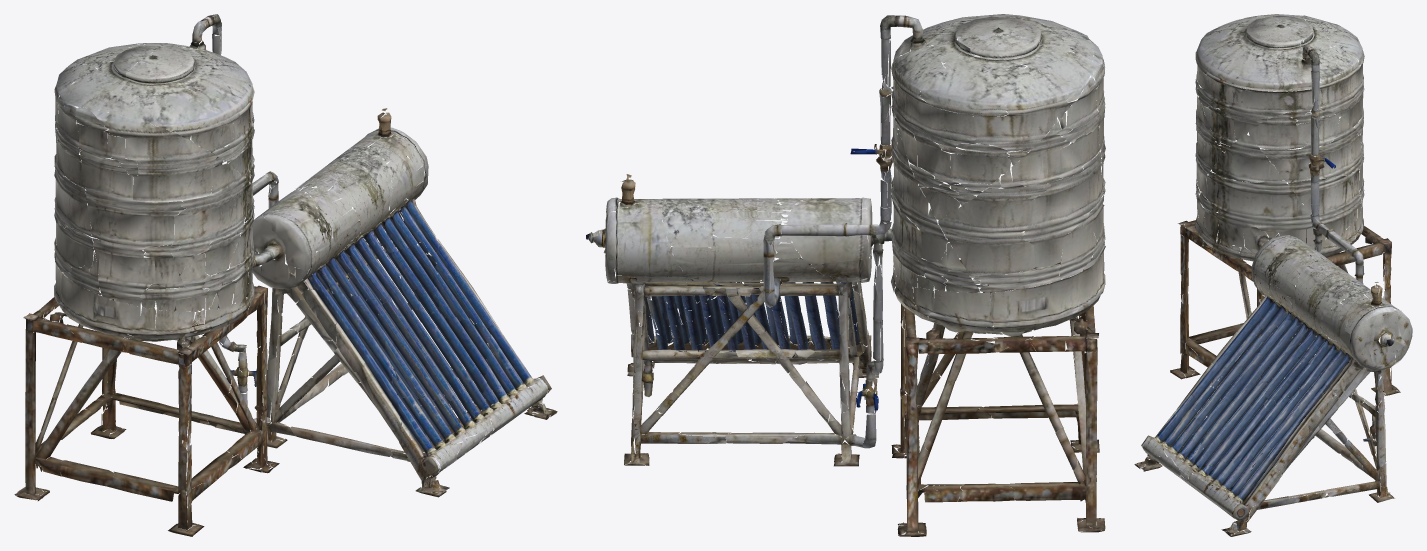
The model's file is m_watertank.glb.
3 renders of one model, left to right at view 1: azimuth 30°, elevation 25°; view 2: azimuth 150°, elevation 25°; view 3: azimuth 270°, elevation 25°, orthographic. The views are drawn at different scales.
Parts seen in each view (by area): view 1: tripo_node_a79046d8-33c5-439f-9a7c-7a4781161616; view 2: tripo_node_a79046d8-33c5-439f-9a7c-7a4781161616; view 3: tripo_node_a79046d8-33c5-439f-9a7c-7a4781161616.
Part boxes in pixels (x1,y1,x2,y2): tripo_node_a79046d8-33c5-439f-9a7c-7a4781161616: (14, 14, 557, 536); tripo_node_a79046d8-33c5-439f-9a7c-7a4781161616: (586, 14, 1105, 536); tripo_node_a79046d8-33c5-439f-9a7c-7a4781161616: (1134, 14, 1412, 536).
Bounding box in the file's own units: 2.28 × 1.92 × 1.32.
1 material, 1 textured.
